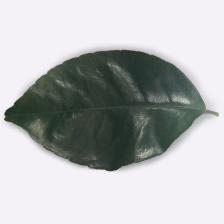healthy: (24, 60, 194, 165)
